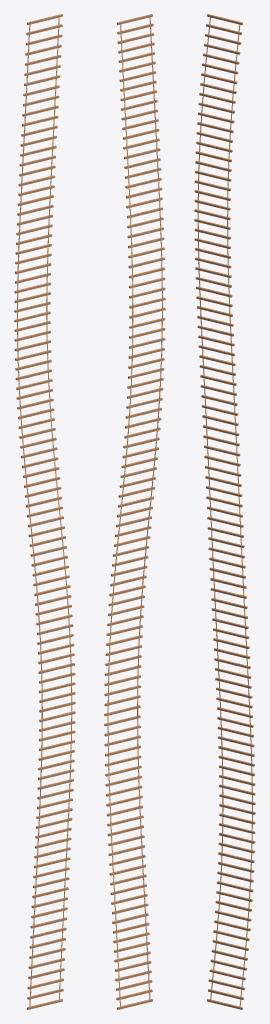
The model's file is Calm_Intro.fbx.
3 renders of one model, left to right at view 1: azimuth 30°, elevation 25°; view 2: azimuth 210°, elevation 25°; view 3: azimuth 330°, elevation 25°, orthographic.
Parts seen in each view (by area): view 1: Calm_Intro; view 2: Calm_Intro; view 3: Calm_Intro.
Boxes of the visible parts, bbox=[...] form: Calm_Intro: bbox=[14, 14, 75, 1009]; Calm_Intro: bbox=[104, 14, 165, 1009]; Calm_Intro: bbox=[194, 14, 255, 1009].
Size of the model in its own units: 5 by 80.15 by 0.7527.
